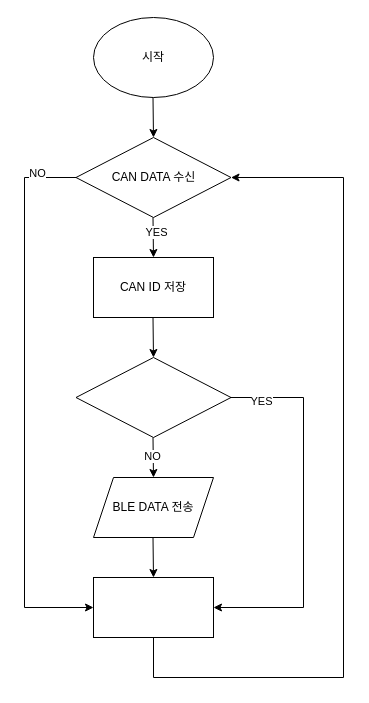
Some shapes in this 369 by 703 pixel diagram are drawn without their labels. Each missing label, with the centre of its shape:
delay(100): point (153, 607)
원격 프레임: point (153, 397)
